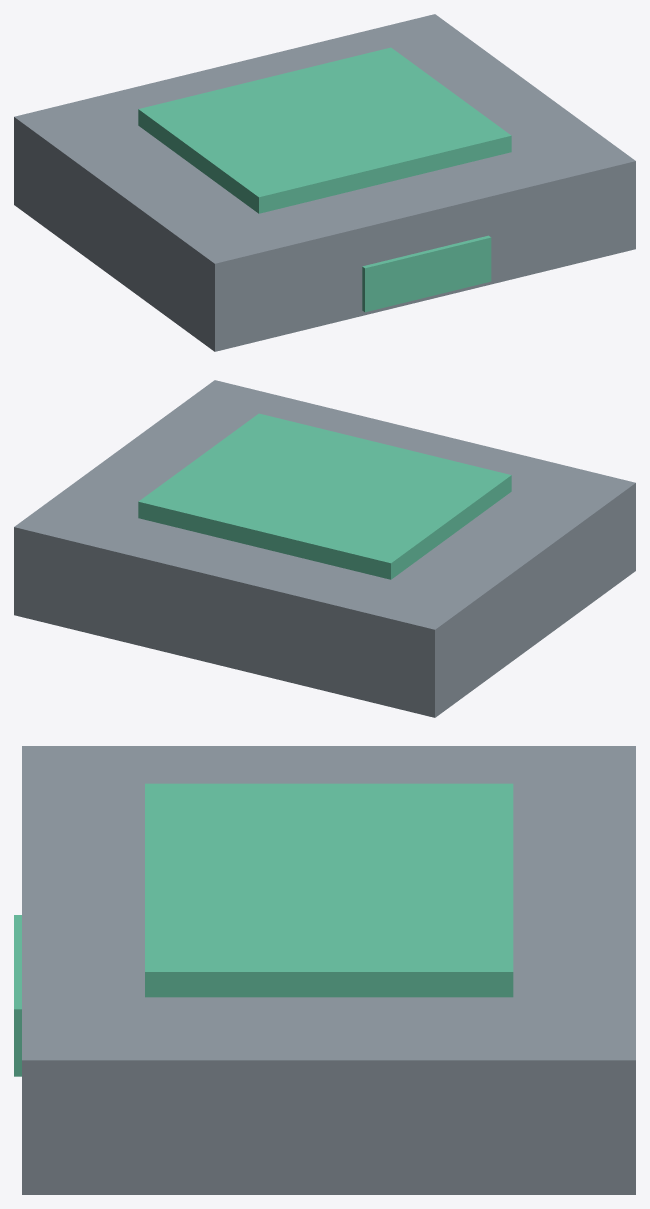
The model's file is CO_AgnipakshaBomber_LOD0.glb.
3 views of the same model, one above another, from view 1: azimuth 30°, elevation 25°; view 2: azimuth 150°, elevation 25°; view 3: azimuth 270°, elevation 25° (orthographic). The views are drawn at different scales.
Parts seen in each view (by area): view 1: EntranceGate; view 2: EntranceGate; view 3: EntranceGate.
Part boxes in pixels (left/top/right/bottom): EntranceGate: left=14, top=14, right=635, bottom=351; EntranceGate: left=14, top=380, right=635, bottom=717; EntranceGate: left=14, top=746, right=635, bottom=1194.
Size of the model in its own units: 920 by 219 by 770.
